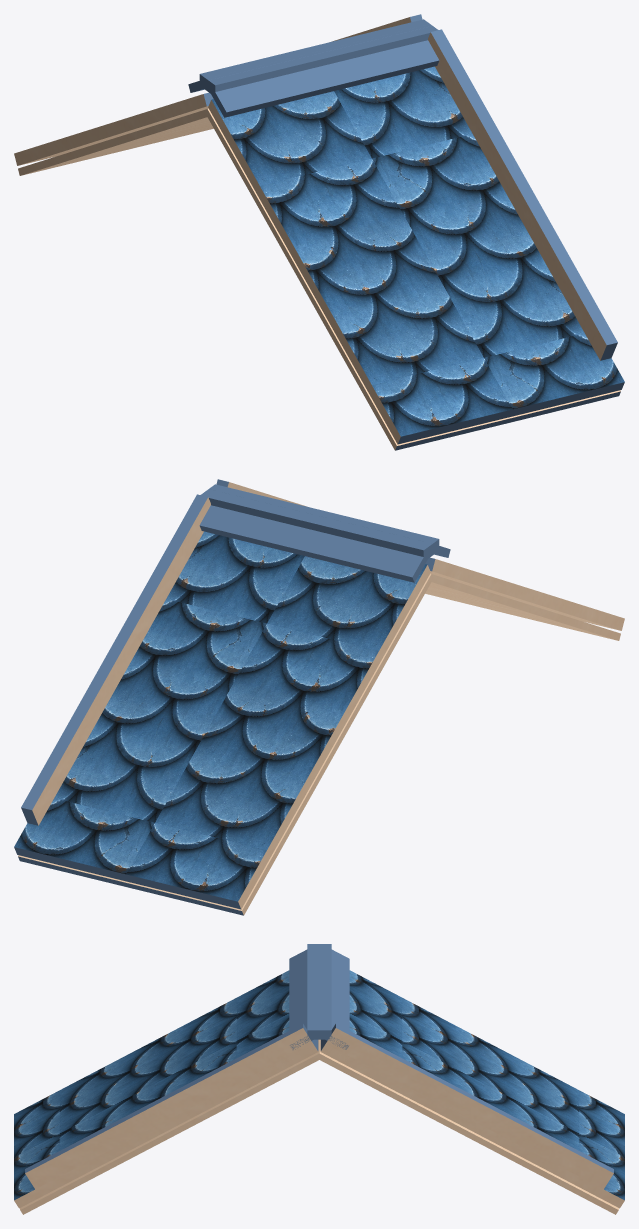
File: Roof3_SectionEdgeR_1m_NoEave.fbx
The picture shows the model from 3 angles, top to bottom: view 1: azimuth 30°, elevation 25°; view 2: azimuth 150°, elevation 25°; view 3: azimuth 270°, elevation 25°; orthographic projection. The views are drawn at different scales.
Visible parts, largest first — view 1: Roof3_SectionEdgeR_1m_NoEave; view 2: Roof3_SectionEdgeR_1m_NoEave; view 3: Roof3_SectionEdgeR_1m_NoEave.
Part boxes in pixels (<box>): Roof3_SectionEdgeR_1m_NoEave: <box>14,14,624,450</box>; Roof3_SectionEdgeR_1m_NoEave: <box>14,479,624,915</box>; Roof3_SectionEdgeR_1m_NoEave: <box>14,944,624,1214</box>.
Size of the model in its own units: 1 by 1.01 by 2.99.
2 materials, 2 textured.
